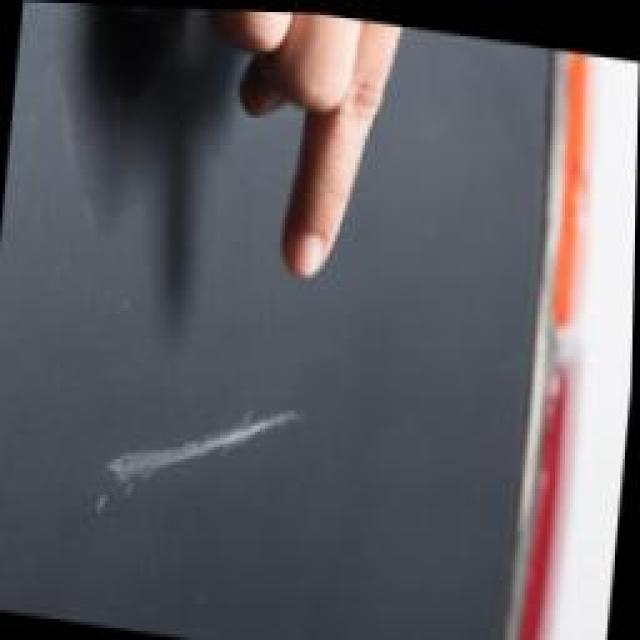Fender: (55, 377, 459, 597)
